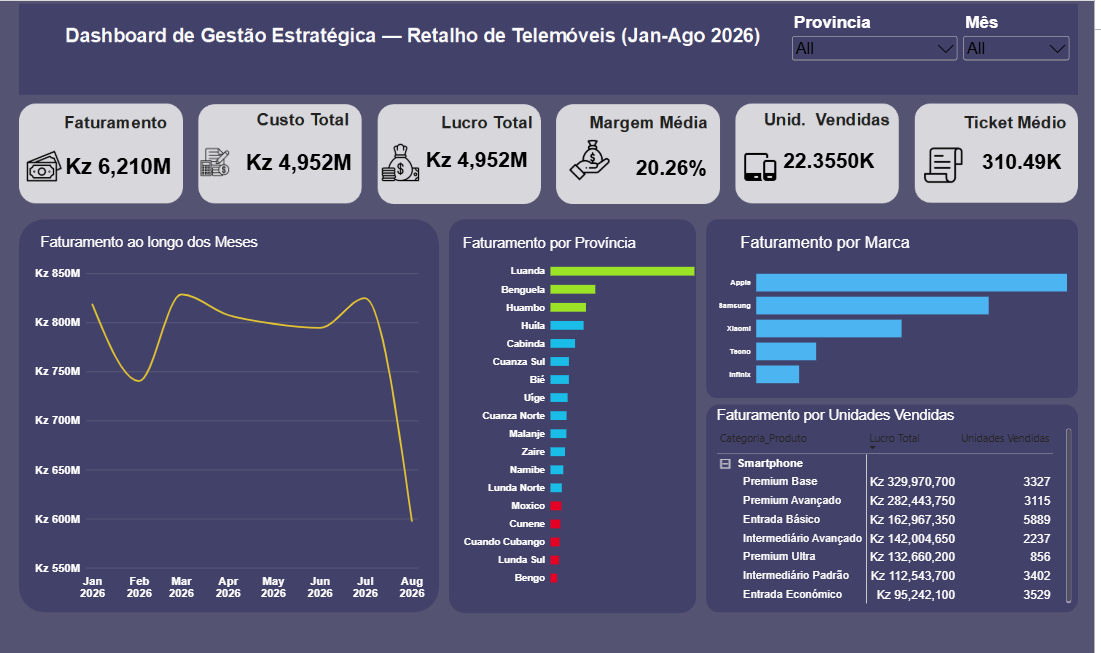

The page's visual inventory and layout, read from the dashboard file:
{"tool":"powerbi","page":{"name":"Page 1","canvas":[1920,1080],"ordinal":0},"visuals":[{"type":"cardVisual","fields":{"Data":["Metricas.Faturamento Total"]},"box":[208.5,220.8,208.5,105.1],"z":0},{"type":"cardVisual","fields":{"Data":["Metricas.Margem  de LucroMedia %"]},"box":[1132,228.5,167.4,92.4],"z":1000},{"type":"cardVisual","fields":{"Data":["Metricas.Ticket Médio por Transação"]},"box":[1677.9,212.8,205.8,106.4],"z":2000},{"type":"cardVisual","fields":{"Data":["Metricas.Custo Total"]},"box":[783.2,212,219,99.9],"z":3000},{"type":"cardVisual","fields":{"Data":["Metricas.Unidades Vendidas"]},"box":[1357.9,206.8,216.3,116.9],"z":4000},{"type":"lineChart","fields":{"Y":["Metricas.Faturamento Total"],"Category":["Calendario.Date.Variation.Date Hierarchy.Year","Calendario.Date.Variation.Date Hierarchy.Month"]},"box":[164,436,668,552.9],"z":5000},{"type":"barChart","fields":{"Category":["Vendas.Marca"],"Y":["Metricas.Lucro Total"]},"box":[1299.8,426.3,583,219.4],"z":6000},{"type":"pivotTable","fields":{"Rows":["Vendas.Categoria_Produto","Vendas.Subcategoria_Comercial"],"Values":["Metricas.Lucro Total","Metricas.Unidades Vendidas"]},"box":[1299.4,704.7,584.3,287.8],"z":7000},{"type":"image","box":[746.4,222.5,61.3,87.6],"z":8000},{"type":"image","box":[1055.3,221.5,66.6,78.8],"z":9000},{"type":"image","box":[14,0,127.9,152.4],"z":10000},{"type":"image","box":[162.9,220.8,57.8,103.4],"z":11000},{"type":"image","box":[1343.9,238.3,52.6,68.3],"z":12000},{"type":"image","box":[448.6,227.8,47.3,73.6],"z":13000},{"type":"image","box":[1633,238.3,78.8,63.1],"z":14000},{"type":"textbox","box":[184.9,382,622.7,57.6],"z":15000},{"type":"textbox","box":[1337.8,382,545.9,75],"z":16000},{"type":"textbox","box":[1299.4,668,528.5,64.5],"z":17000},{"type":"clusteredBarChart","fields":{"Category":["Vendas.Provincia"],"Y":["Metricas.Faturamento Total"]},"box":[881.3,418.8,383.7,551.9],"z":18000},{"type":"cardVisual","fields":{"Data":["Metricas.Custo Total"]},"box":[473.1,213.8,240,105.1],"z":19000},{"type":"textbox","box":[881.3,385.5,346.9,54.3],"z":20000},{"type":"slicer","fields":{"Values":["Vendas.Provincia"]},"box":[1418.9,18.8,282.1,79.4],"z":20001},{"type":"slicer","fields":{"Values":["Calendario.Mes_Nome"]},"box":[1701,18.8,183.9,79.4],"z":20002}]}

Visuals, with their boxes on the page's 1920x1080 design canvas (x1, y1, x2, y2). These are canvas units, not pixel positions in the 1101x653 screenshot, which may show the page scaled, cropped or inside an application window:
cardVisual - Metricas.Faturamento Total: bbox=[208, 221, 417, 326]
cardVisual - Metricas.Margem  de LucroMedia %: bbox=[1132, 228, 1299, 321]
cardVisual - Metricas.Ticket Médio por Transação: bbox=[1678, 213, 1884, 319]
cardVisual - Metricas.Custo Total: bbox=[783, 212, 1002, 312]
cardVisual - Metricas.Unidades Vendidas: bbox=[1358, 207, 1574, 324]
lineChart - Metricas.Faturamento Total x Calendario.Date.Variation.Date Hierarchy.Year: bbox=[164, 436, 832, 989]
barChart - Vendas.Marca x Metricas.Lucro Total: bbox=[1300, 426, 1883, 646]
pivotTable - Vendas.Categoria_Produto x Vendas.Subcategoria_Comercial: bbox=[1299, 705, 1884, 992]
image: bbox=[746, 222, 808, 310]
image: bbox=[1055, 222, 1122, 300]
image: bbox=[14, 0, 142, 152]
image: bbox=[163, 221, 221, 324]
image: bbox=[1344, 238, 1396, 307]
image: bbox=[449, 228, 496, 301]
image: bbox=[1633, 238, 1712, 301]
textbox: bbox=[185, 382, 808, 440]
textbox: bbox=[1338, 382, 1884, 457]
textbox: bbox=[1299, 668, 1828, 732]
clusteredBarChart - Vendas.Provincia x Metricas.Faturamento Total: bbox=[881, 419, 1265, 971]
cardVisual - Metricas.Custo Total: bbox=[473, 214, 713, 319]
textbox: bbox=[881, 386, 1228, 440]
slicer - Vendas.Provincia: bbox=[1419, 19, 1701, 98]
slicer - Calendario.Mes_Nome: bbox=[1701, 19, 1885, 98]
